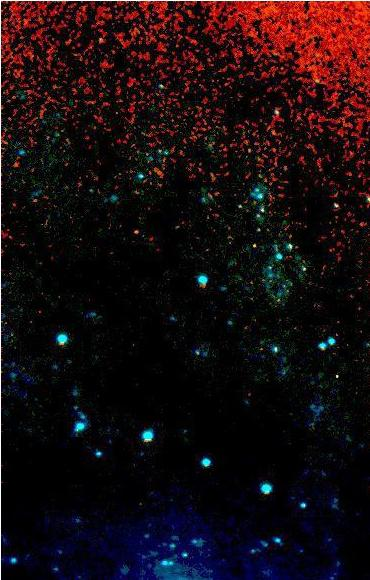star: (1, 149, 31, 179)
